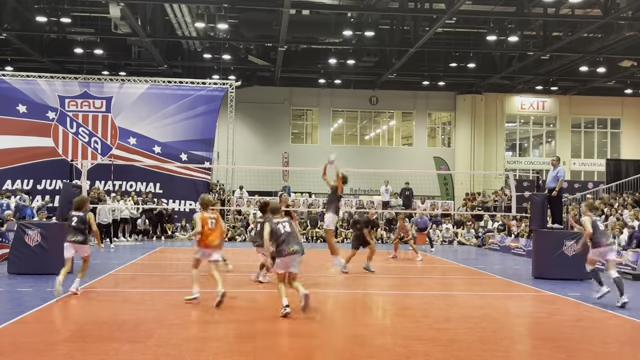alzata: (318, 154, 349, 280)
